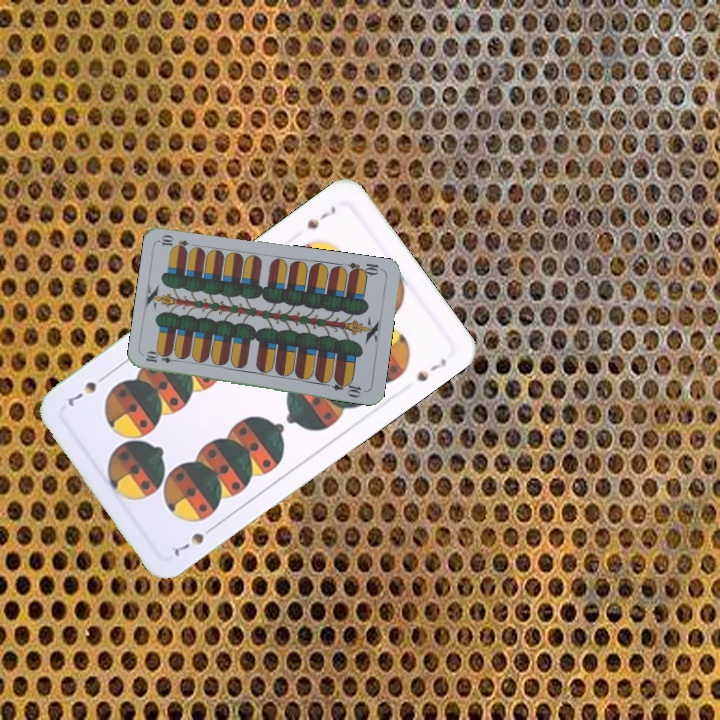E10: (345, 258, 385, 278), (141, 350, 182, 365)
S7: (169, 521, 219, 559), (303, 201, 339, 232)
